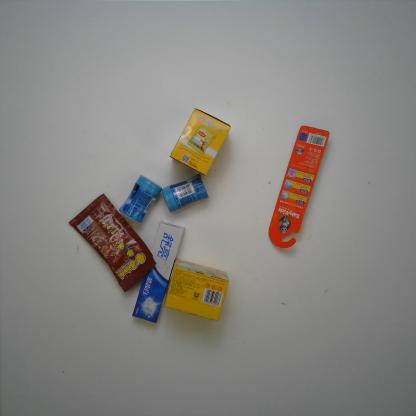Candy: (66, 192, 157, 295)
Gum: (118, 174, 162, 226), (161, 172, 213, 214)
Instant Drink: (168, 105, 233, 178), (162, 258, 230, 323)
Personal Hygiene: (265, 122, 331, 250), (131, 221, 187, 324)
